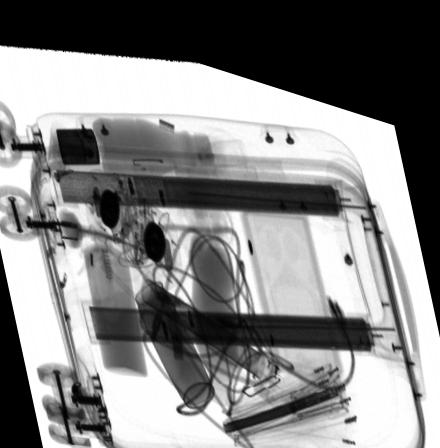Lighter: (55, 118, 101, 161)
